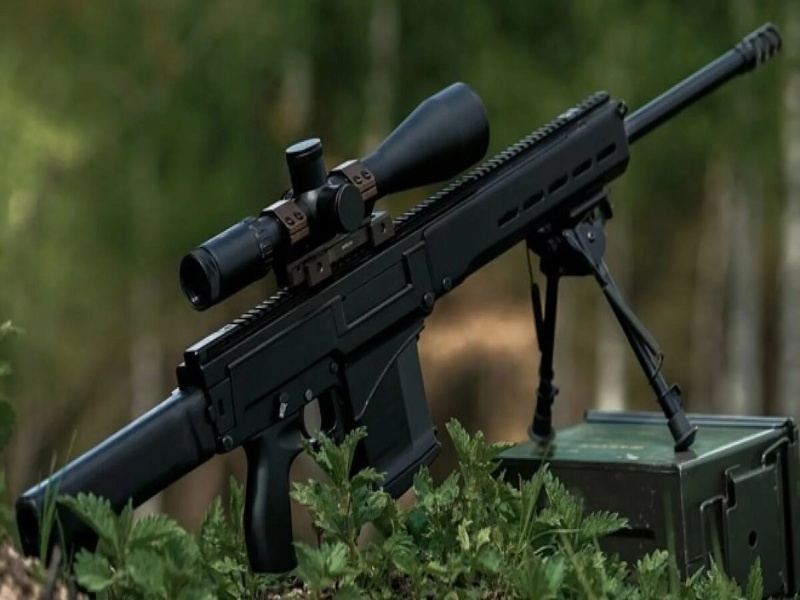weapon: (15, 22, 783, 572)
